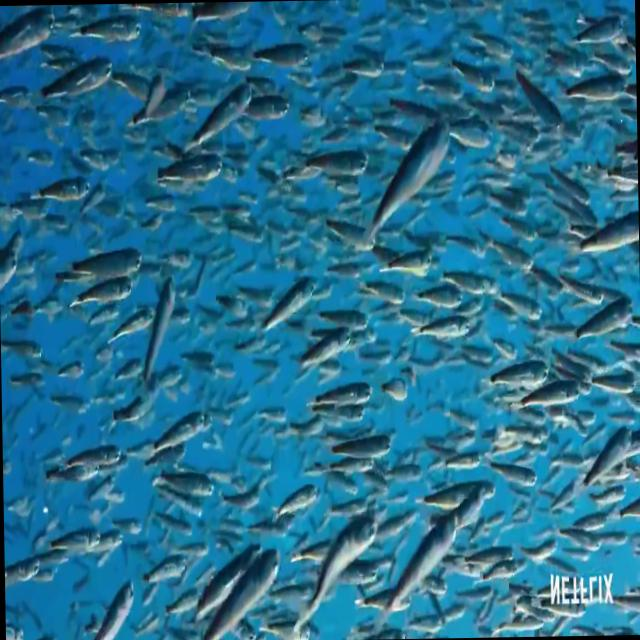fish: (374, 111, 449, 238), (298, 512, 377, 626), (382, 513, 464, 615), (202, 550, 284, 640), (181, 86, 254, 156), (141, 283, 177, 388), (40, 53, 112, 104), (258, 278, 318, 334), (294, 323, 351, 379), (87, 577, 137, 640), (574, 295, 632, 343), (574, 212, 639, 252), (70, 248, 144, 282), (520, 376, 582, 416), (67, 276, 135, 312), (307, 379, 373, 415), (570, 12, 626, 48), (105, 304, 153, 344), (135, 73, 163, 124)
